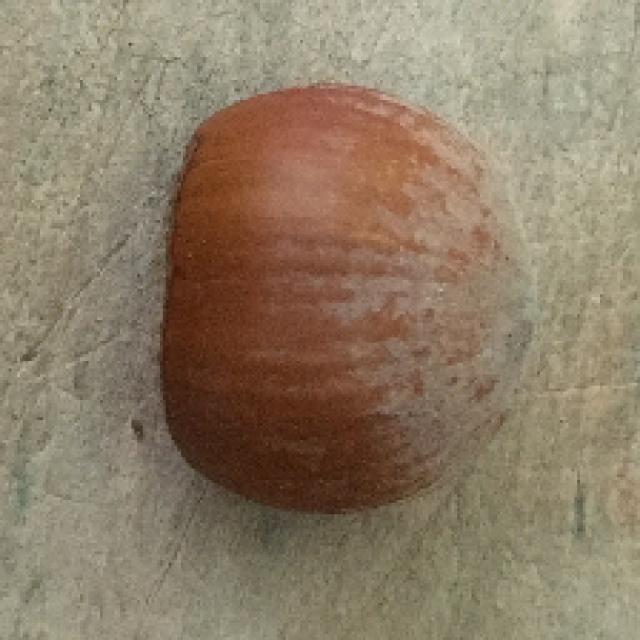qualityHazelnut: (139, 80, 540, 512)
